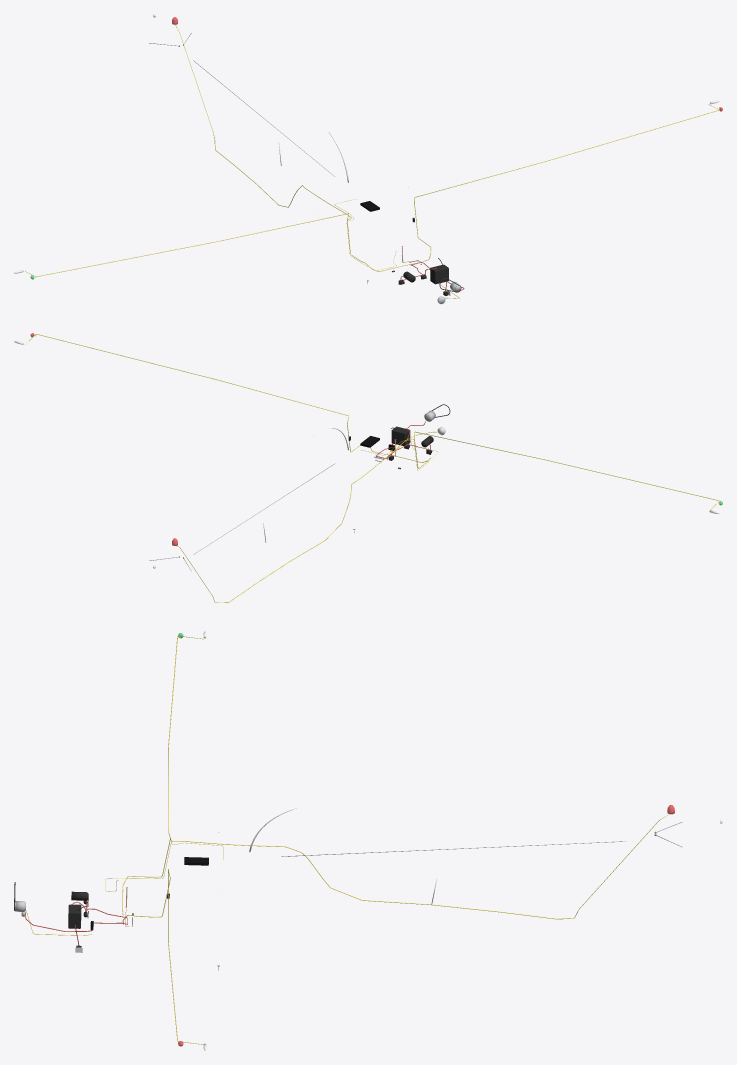
Rendered from ELECTRICAL.glb.
3 renders of one model, top to bottom at view 1: azimuth 30°, elevation 25°; view 2: azimuth 150°, elevation 25°; view 3: azimuth 270°, elevation 25°, orthographic. The views are drawn at different scales.
Bounding box in the file's own units: 10.97 × 1.97 × 7.86.
14 materials, 1 textured.
